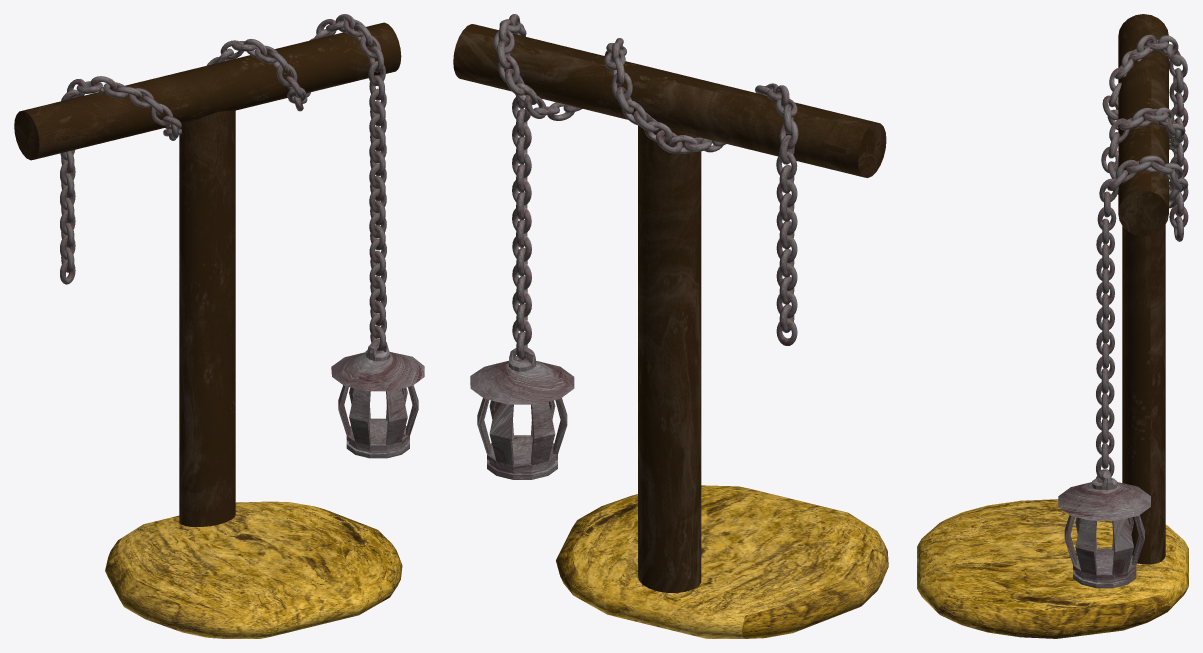
File: stand.fbx
The picture shows the model from 3 angles, left to right: view 1: azimuth 30°, elevation 25°; view 2: azimuth 150°, elevation 25°; view 3: azimuth 270°, elevation 25°; orthographic projection. The views are drawn at different scales.
Visible parts, largest first — view 1: stand, ground, chain, lamp; view 2: stand, ground, chain, lamp; view 3: ground, stand, chain, lamp.
Boxes of the visible parts, x1,y1,x2,y2 form: stand: (14, 22, 401, 526); ground: (105, 501, 402, 638); chain: (60, 14, 386, 350); lamp: (331, 339, 424, 458); stand: (453, 24, 886, 592); ground: (556, 485, 888, 638); chain: (493, 14, 798, 360); lamp: (470, 347, 574, 479); ground: (917, 499, 1188, 638); stand: (1118, 14, 1168, 564); chain: (1096, 34, 1188, 480); lamp: (1058, 469, 1150, 588).
Size of the model in its own units: 5.29 by 6.84 by 3.34.
